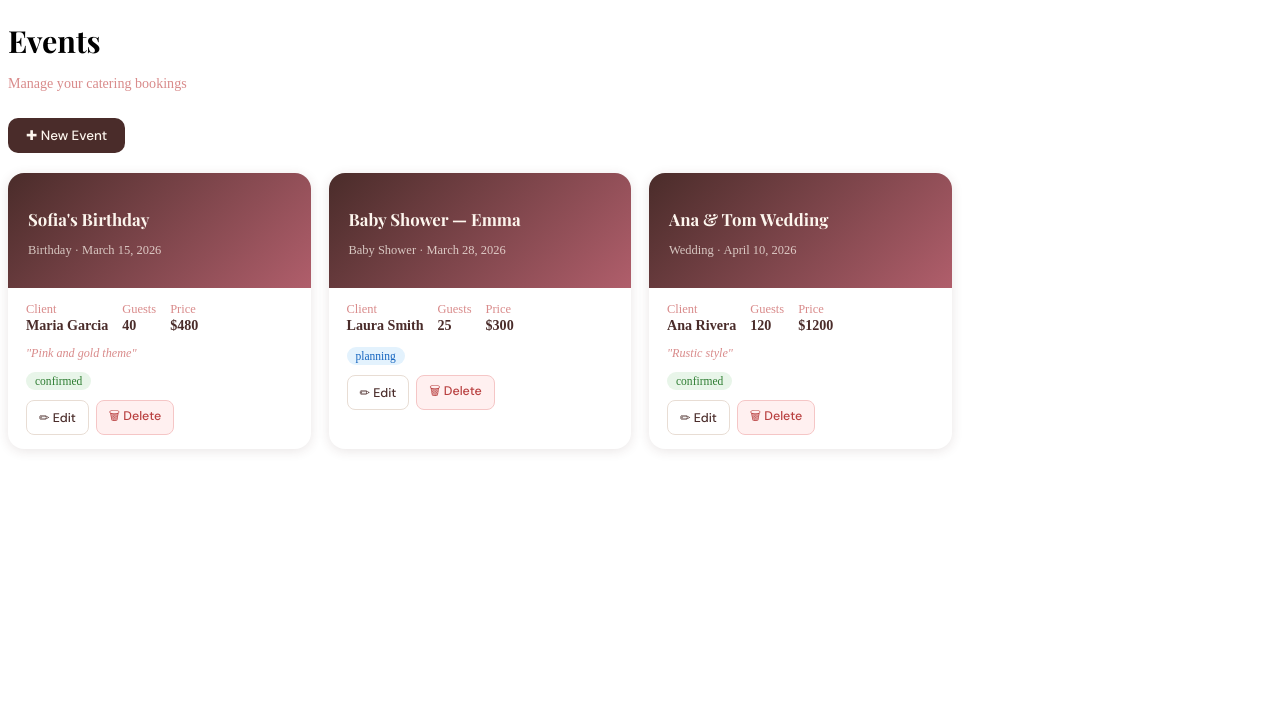
Test: EventsPage › pre-fills the form when editing an event
Click the button "✏ Edit" below "Pink and gold theme" at (57, 418), box top-left (26, 400), bottom-right (89, 435)
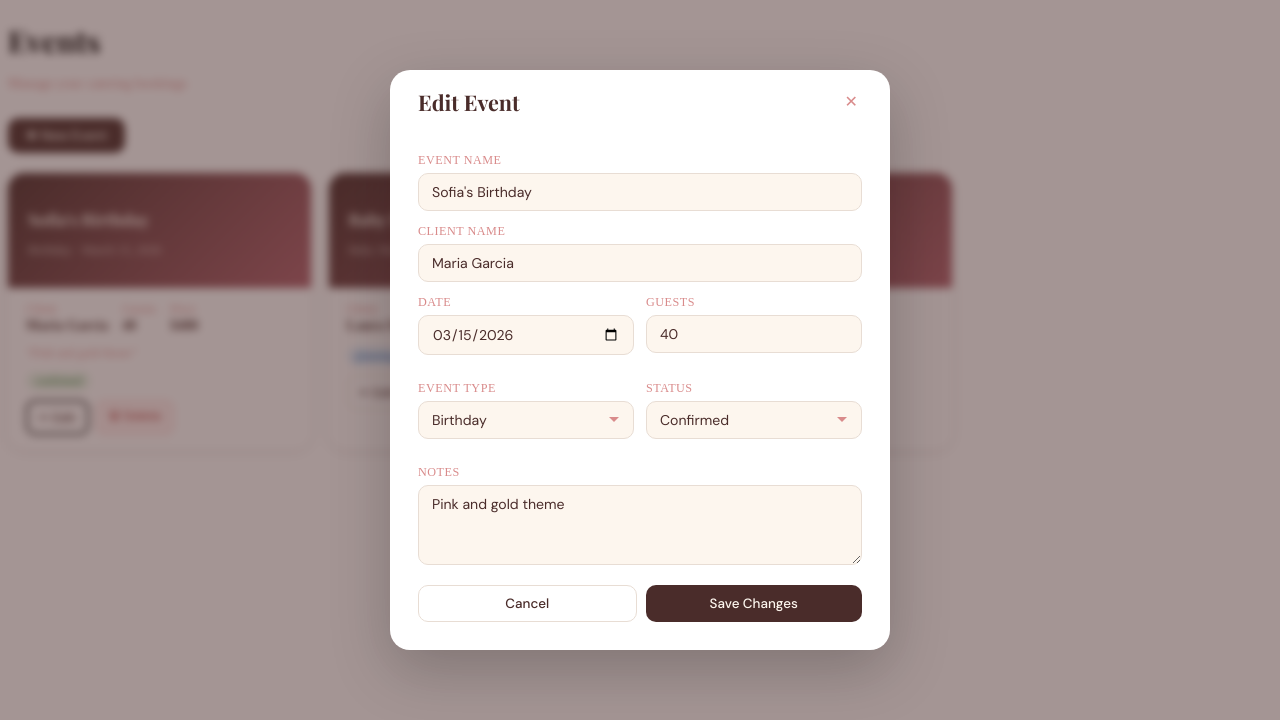
Expected: the field showing "Sofia's Birthday" below "Event Name" is shown, top-left (418, 173), bottom-right (862, 211)
